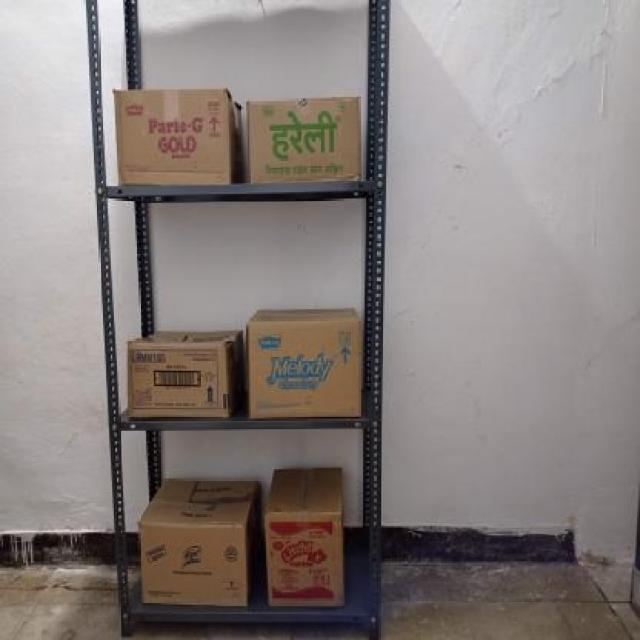box: (108, 88, 234, 187), (246, 314, 357, 418), (247, 98, 361, 180), (140, 524, 246, 604), (126, 340, 228, 422), (265, 510, 347, 608)
